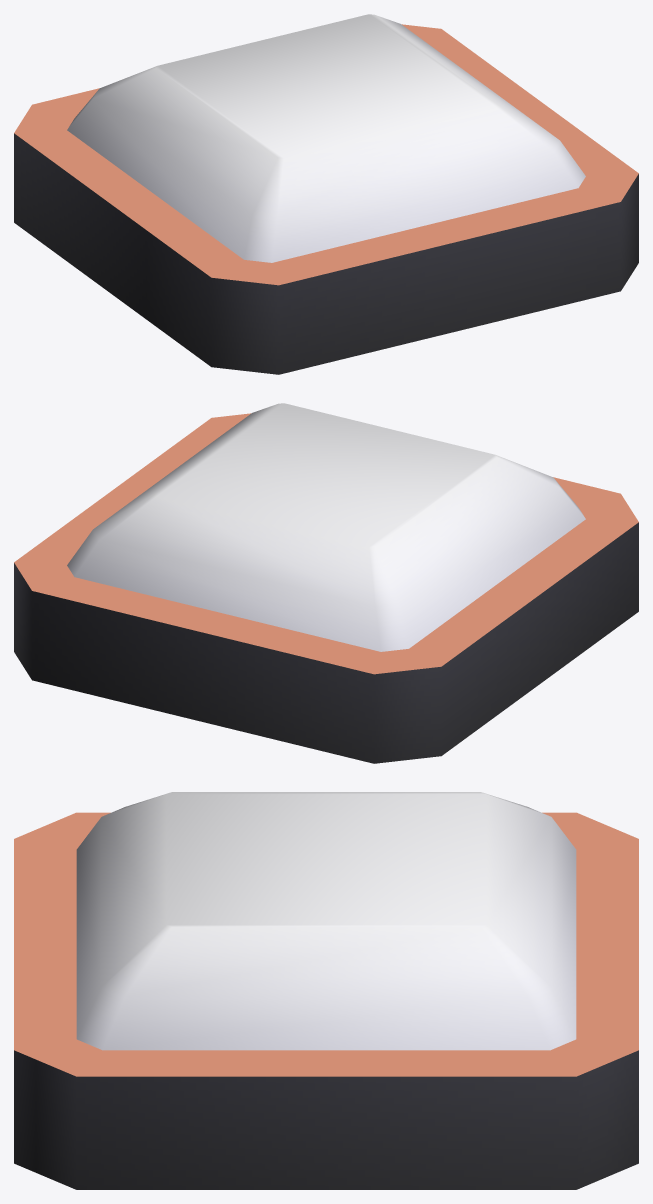
The model's file is button-floor-square-small.obj.
The picture shows the model from 3 angles, top to bottom: view 1: azimuth 30°, elevation 25°; view 2: azimuth 150°, elevation 25°; view 3: azimuth 270°, elevation 25°; orthographic projection. The views are drawn at different scales.
Visible parts, largest first — view 1: button-floor-square-small, button; view 2: button-floor-square-small, button; view 3: button, button-floor-square-small.
Boxes of the visible parts, x1,y1,x2,y2 form: button-floor-square-small: [14, 24, 638, 374]; button: [67, 14, 585, 262]; button-floor-square-small: [14, 413, 638, 763]; button: [67, 403, 585, 651]; button: [76, 792, 576, 1050]; button-floor-square-small: [14, 812, 638, 1189].
Bounding box in the file's own units: 0.5 × 0.175 × 0.5.
